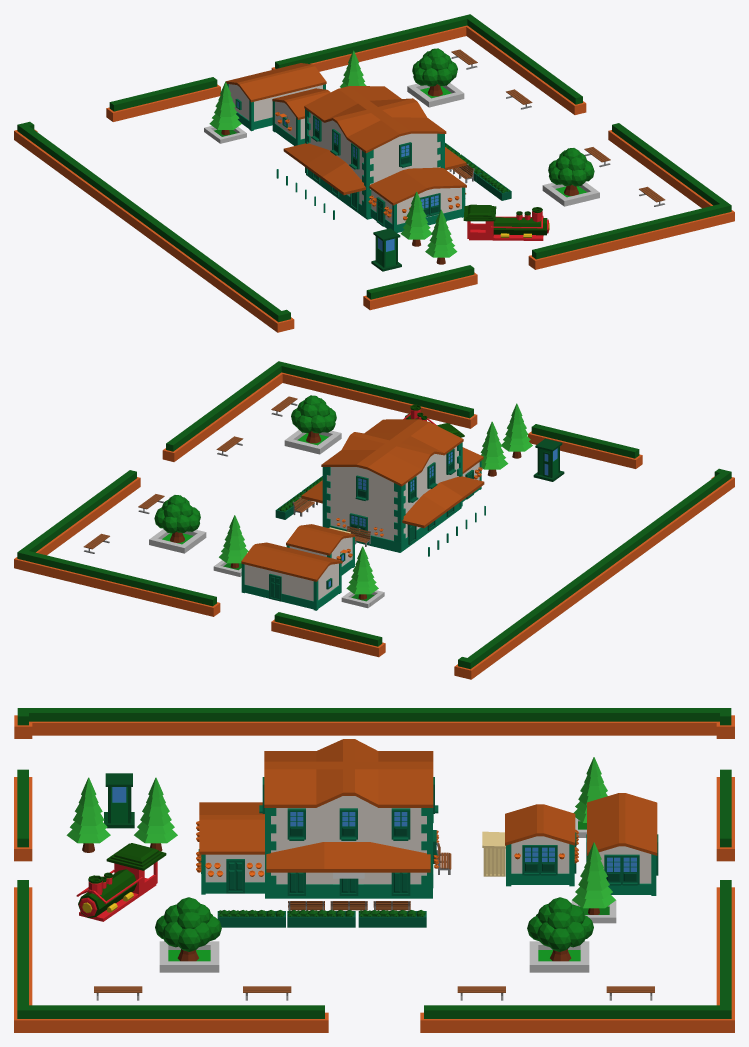
The model's file is Usaquen-Station-Model.glb.
3 renders of one model, top to bottom at view 1: azimuth 30°, elevation 25°; view 2: azimuth 150°, elevation 25°; view 3: azimuth 270°, elevation 25°, orthographic. The views are drawn at different scales.
Visible parts, largest first — view 1: Cube.466, Cube.569, Cube.554, Cube.465, central usaquen, tren, Cube.552, Cube.512, Cube.553, Cube.564, Cube.516, Cube.464 (+6 smaller); view 2: Cube.466, Cube.569, central usaquen, Cube.554, Cube.465, Cube.516, Cube.552, Cube.512, Cube.523, Cube.540, Cube.464, Cube.562 (+2 smaller); view 3: Cube.466, Cube.569, Cube.554, central usaquen, Cube.552, tren, Cube.512, Cube.553, Cube.465, Cube.523, Cube.557, Cube.519 (+23 smaller).
Part boxes in pixels (x1,y1,x2,y2): Cube.466: (271, 14, 734, 269); Cube.569: (14, 121, 294, 332); Cube.554: (304, 86, 446, 153); Cube.465: (106, 77, 477, 310); central usaquen: (306, 113, 440, 219); tren: (463, 204, 549, 240); Cube.552: (283, 143, 466, 195); Cube.512: (225, 63, 326, 102); Cube.553: (369, 167, 466, 205); Cube.564: (370, 187, 464, 232); Cube.516: (229, 84, 322, 129); Cube.464: (407, 83, 599, 206); Cube.466: (14, 361, 477, 616); Cube.569: (454, 468, 734, 679); central usaquen: (322, 446, 461, 552); Cube.554: (321, 419, 463, 486); Cube.465: (271, 424, 642, 657); Cube.516: (244, 563, 340, 609); Cube.552: (301, 476, 484, 528); Cube.512: (241, 542, 342, 581); Cube.523: (286, 524, 355, 555); Cube.540: (322, 467, 405, 550); Cube.464: (149, 430, 341, 553); Cube.562: (408, 448, 456, 502); Cube.466: (14, 880, 734, 1032); Cube.569: (14, 708, 734, 738); Cube.554: (264, 739, 433, 807); central usaquen: (265, 796, 433, 898); Cube.552: (266, 842, 430, 872); tren: (76, 843, 166, 921); Cube.512: (587, 793, 657, 855); Cube.553: (199, 802, 264, 854); Cube.465: (14, 769, 734, 861); Cube.523: (505, 804, 575, 845); Cube.557: (287, 808, 410, 840); Cube.519: (511, 836, 569, 884).
Size of the model in its own units: 32.27 by 5.37 by 32.22.
